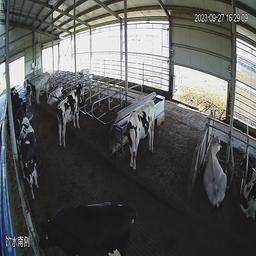cow: (35, 195, 148, 255), (117, 92, 160, 175), (203, 125, 230, 213), (16, 118, 43, 201), (54, 86, 87, 151), (8, 92, 29, 137), (30, 70, 51, 99)
